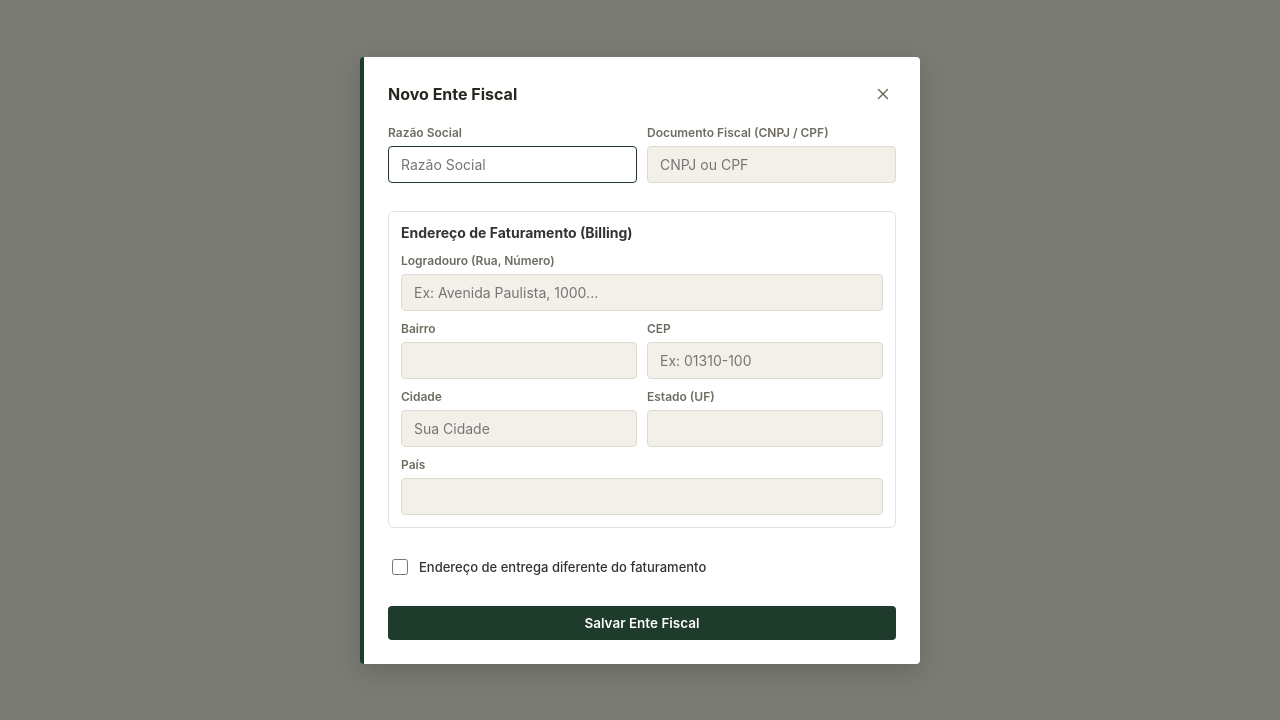
it: FiscalFormModal › 11. Erro de serviço exibe mensagem e não fecha modal
Type "Erro Teste" into the field with placeholder "Razão Social" at (512, 164), box [388,146,637,182]
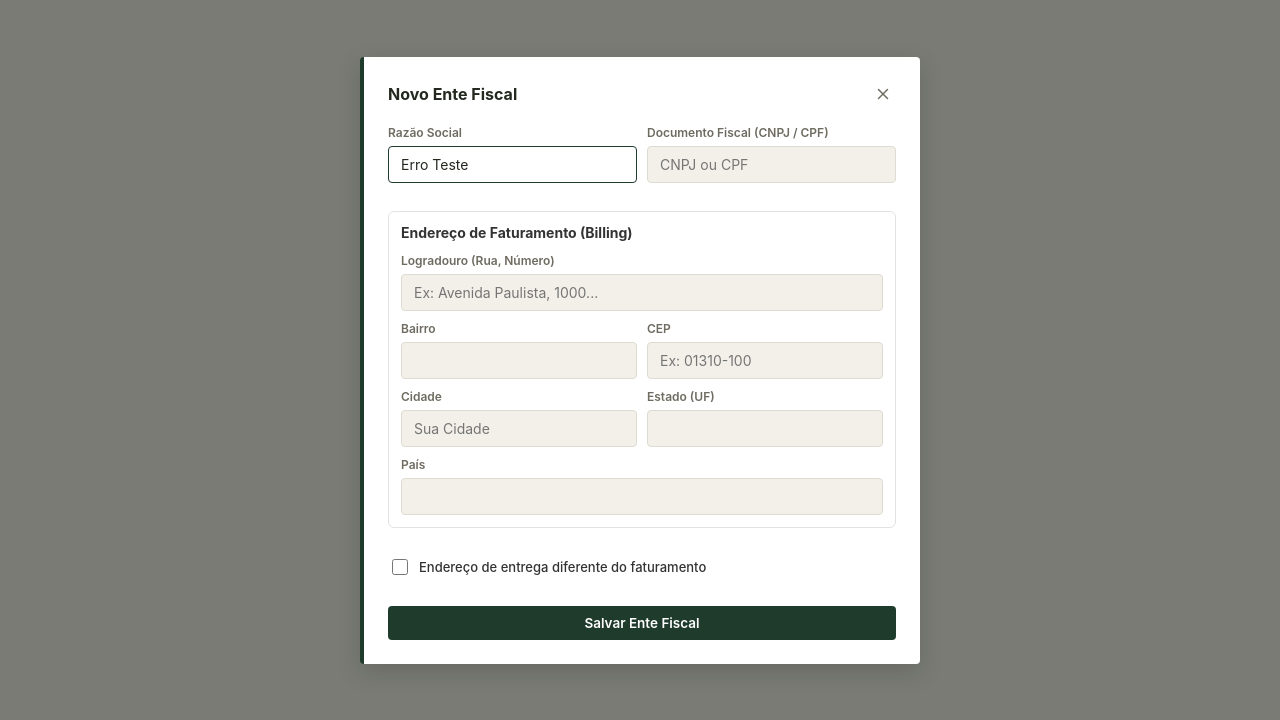
Submit the form, box [388,124,896,640]
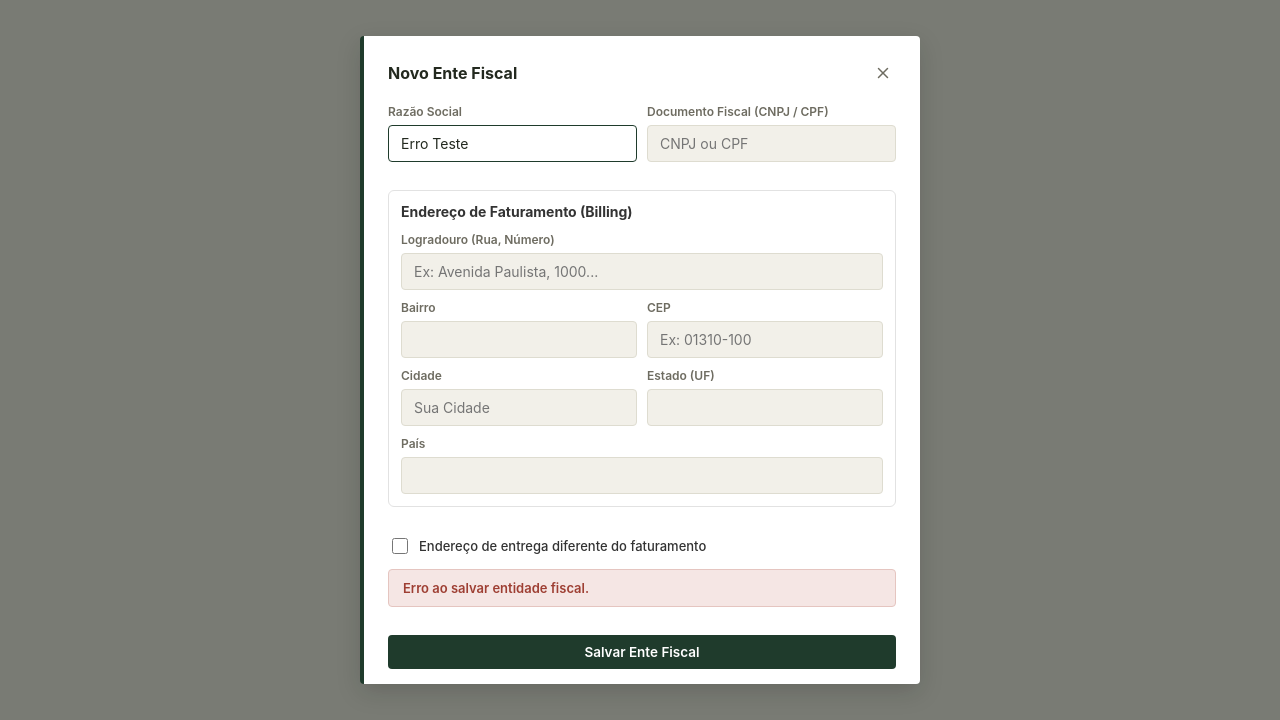
Result: the text "Erro ao salvar entidade fiscal." is shown at [388,569,896,607]
